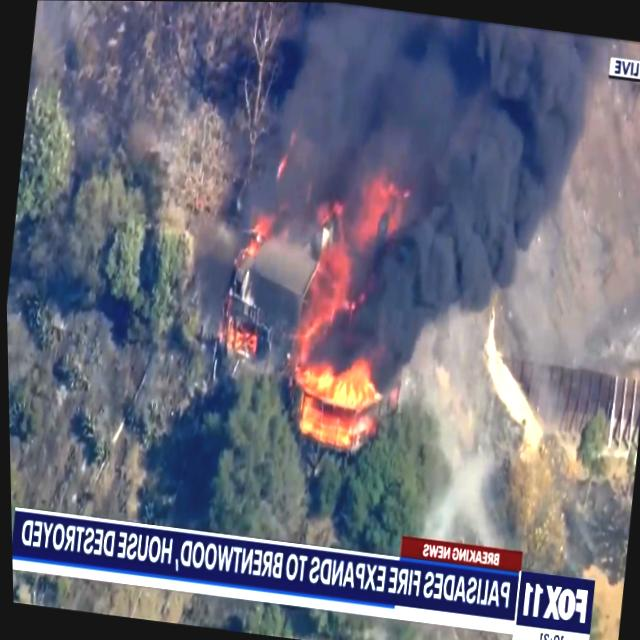Smoke: (233, 1, 600, 393)
